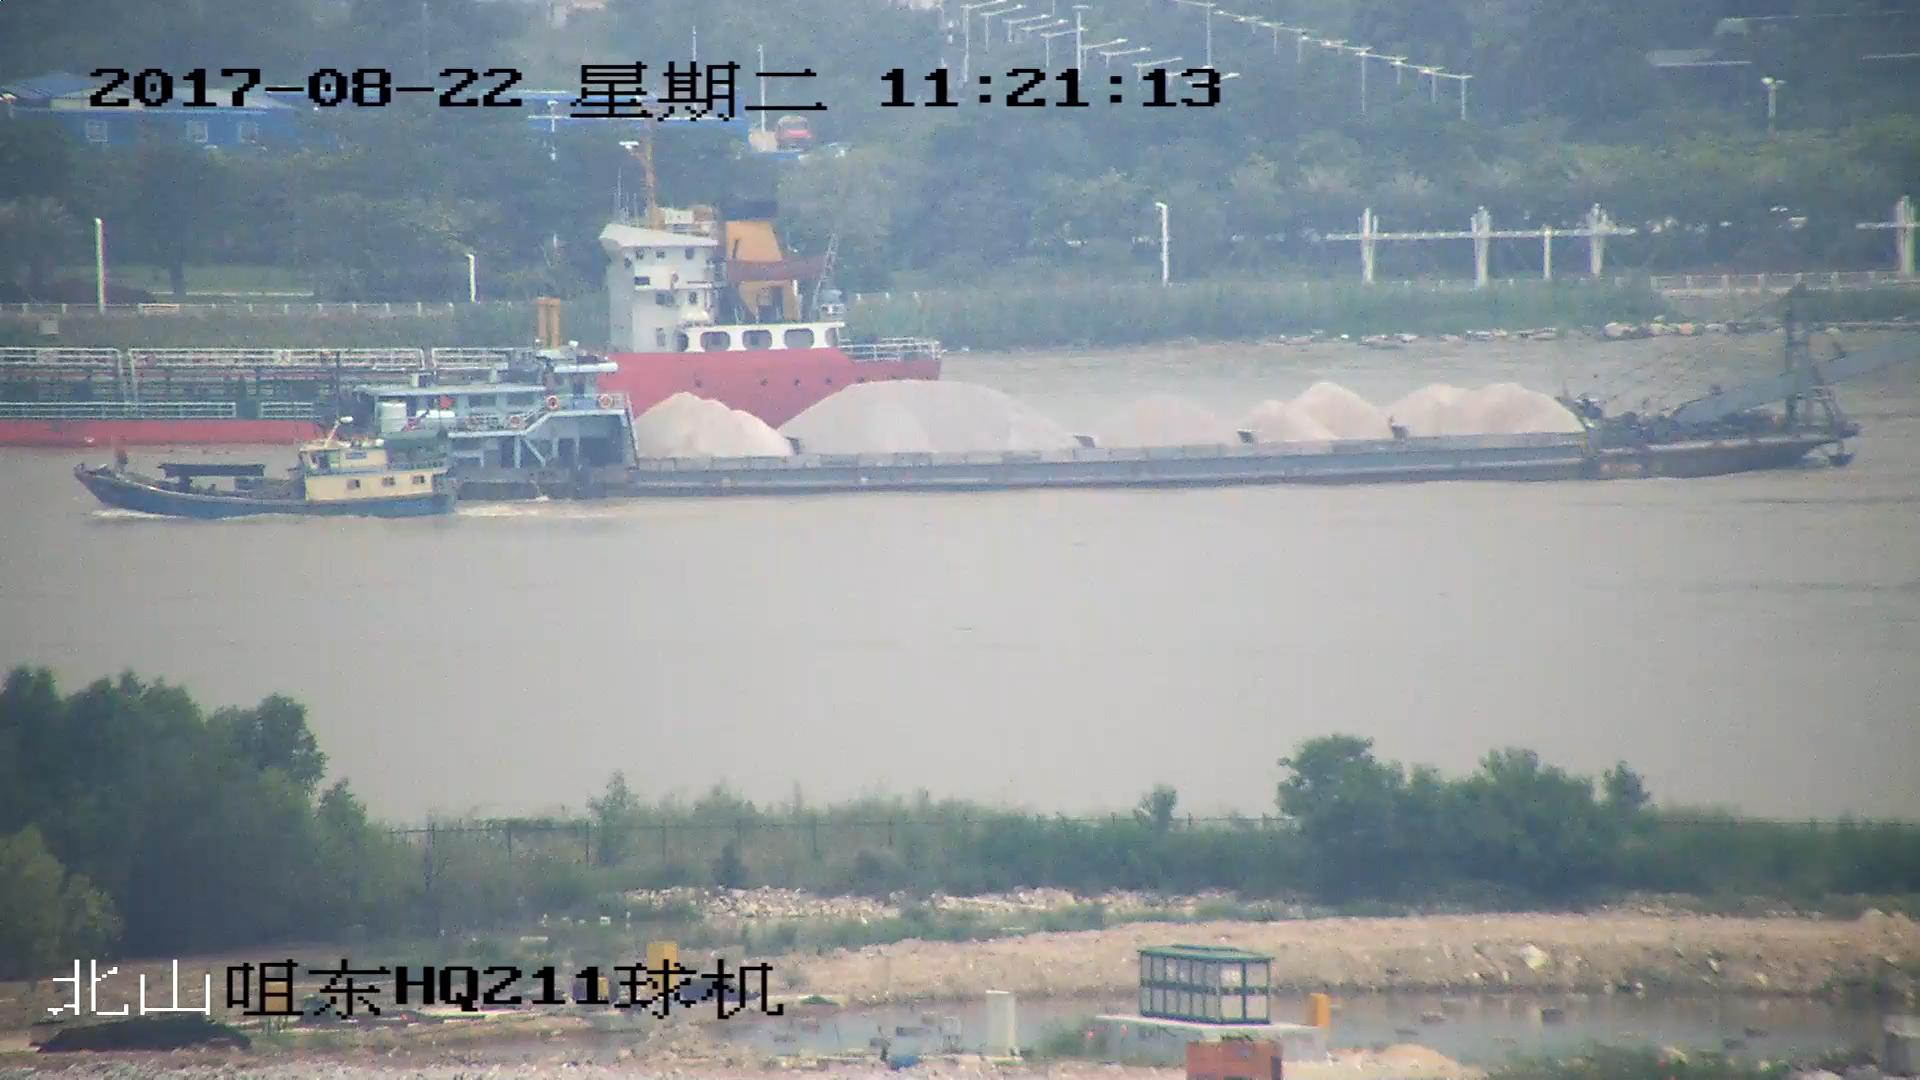fishing boat: (72, 418, 459, 524)
general cargo ship: (1, 126, 948, 450)
ore carrier: (323, 290, 1920, 492)
